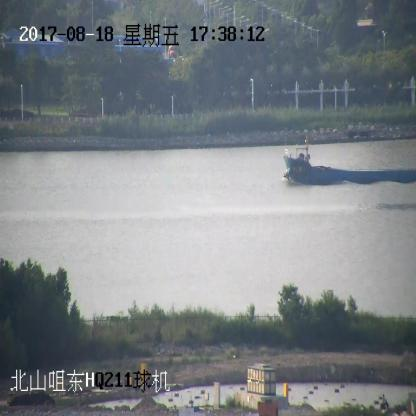Bulk Carrier: (283, 137, 415, 188)
